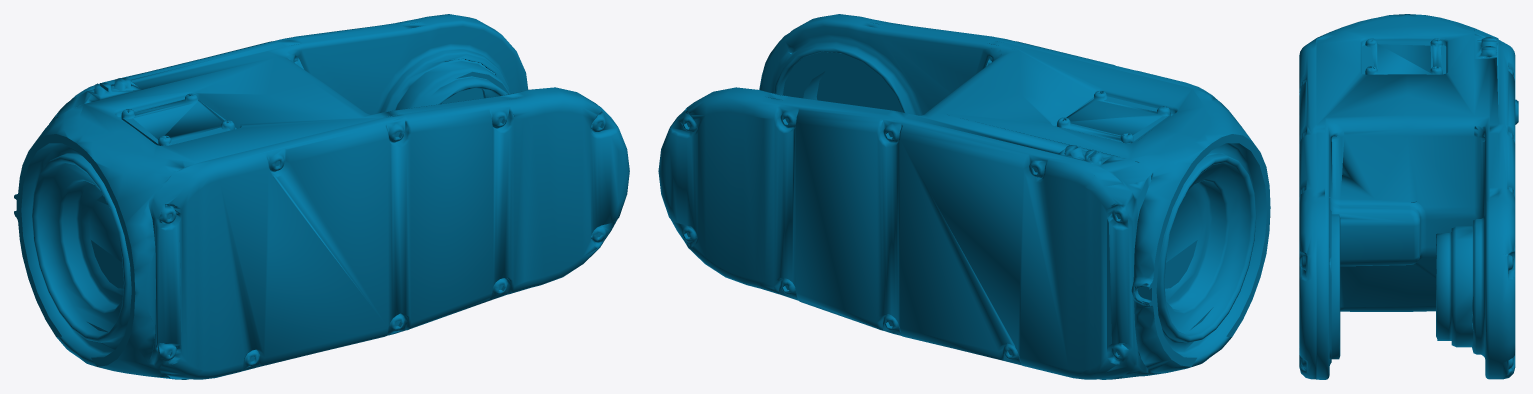
The picture shows the model from 3 angles, left to right: view 1: azimuth 30°, elevation 25°; view 2: azimuth 150°, elevation 25°; view 3: azimuth 270°, elevation 25°; orthographic projection. The views are drawn at different scales.
Parts seen in each view (by area): view 1: f_1-06vx4-a00_lk4; view 2: f_1-06vx4-a00_lk4; view 3: f_1-06vx4-a00_lk4.
Boxes of the visible parts, box(x1,y1,x2,y2) form: f_1-06vx4-a00_lk4: box(14, 14, 629, 379); f_1-06vx4-a00_lk4: box(658, 14, 1270, 379); f_1-06vx4-a00_lk4: box(1299, 14, 1518, 379).
Size of the model in its own units: 0.237 by 0.1015 by 0.1012.
